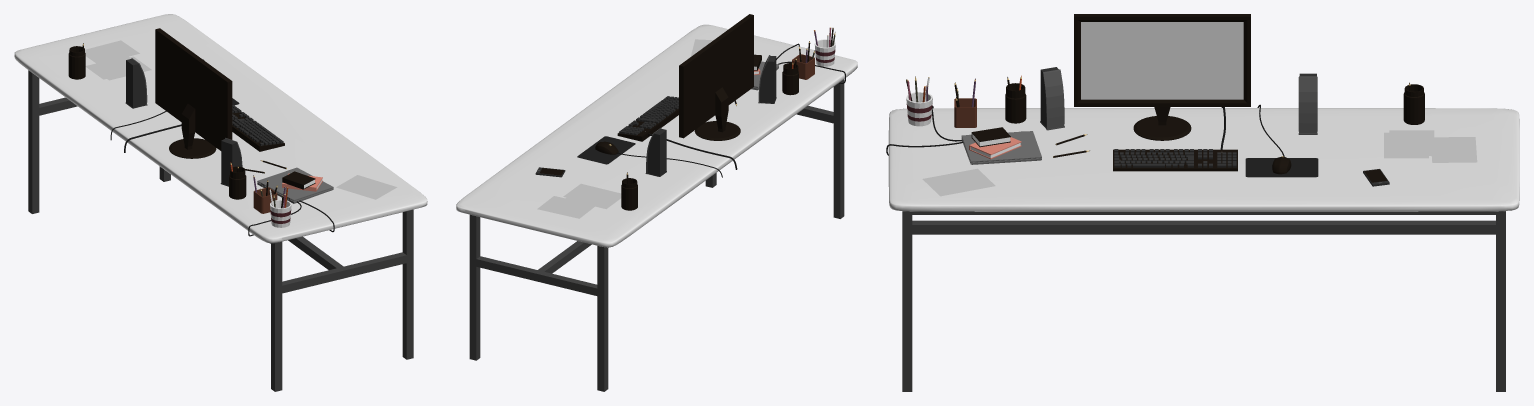
Rendered from Table_01 1.fbx.
The picture shows the model from 3 angles, left to right: view 1: azimuth 30°, elevation 25°; view 2: azimuth 150°, elevation 25°; view 3: azimuth 270°, elevation 25°; orthographic projection. The views are drawn at different scales.
Parts seen in each view (by area): view 1: Desk top, Desk legs, PC_Monitor.002, Paper, Pen stands, PC_Speaker, PC_Keyboard, Notebook, Books, Pen; view 2: Desk top, Desk legs, PC_Monitor.002, Pen stands, Paper, PC_Speaker, PC_Keyboard, Mousepad, Pen; view 3: Desk top, PC_Monitor.002, Desk legs, Paper, Pen stands, PC_Keyboard, PC_Speaker, Notebook, Mousepad, Books, Pen.
Boxes of the visible parts, bbox=[...] form: Desk top: bbox=[14, 14, 427, 243]; Desk legs: bbox=[28, 70, 413, 391]; PC_Monitor.002: bbox=[155, 28, 232, 158]; Paper: bbox=[85, 40, 397, 199]; Pen stands: bbox=[68, 46, 291, 227]; PC_Speaker: bbox=[125, 58, 242, 186]; PC_Keyboard: bbox=[232, 105, 284, 151]; Notebook: bbox=[257, 167, 333, 203]; Books: bbox=[282, 171, 322, 191]; Pen: bbox=[82, 43, 288, 208]; Desk top: bbox=[456, 24, 857, 247]; Desk legs: bbox=[469, 79, 844, 391]; PC_Monitor.002: bbox=[679, 14, 753, 140]; Pen stands: bbox=[621, 39, 835, 210]; Paper: bbox=[537, 39, 712, 218]; PC_Speaker: bbox=[645, 55, 776, 176]; PC_Keyboard: bbox=[617, 96, 678, 141]; Mousepad: bbox=[577, 136, 635, 164]; Pen: bbox=[626, 27, 835, 183]; Desk top: bbox=[888, 108, 1519, 211]; PC_Monitor.002: bbox=[1074, 14, 1250, 140]; Desk legs: bbox=[902, 211, 1505, 391]; Paper: bbox=[922, 130, 1477, 196]; Pen stands: bbox=[906, 83, 1424, 127]; PC_Keyboard: bbox=[1113, 149, 1237, 171]; PC_Speaker: bbox=[1040, 67, 1317, 134]; Notebook: bbox=[961, 131, 1041, 164]; Mousepad: bbox=[1245, 158, 1318, 177]; Books: bbox=[969, 127, 1021, 159]; Pen: bbox=[906, 75, 1410, 157].
Size of the model in its own units: 231 by 324 by 602.
